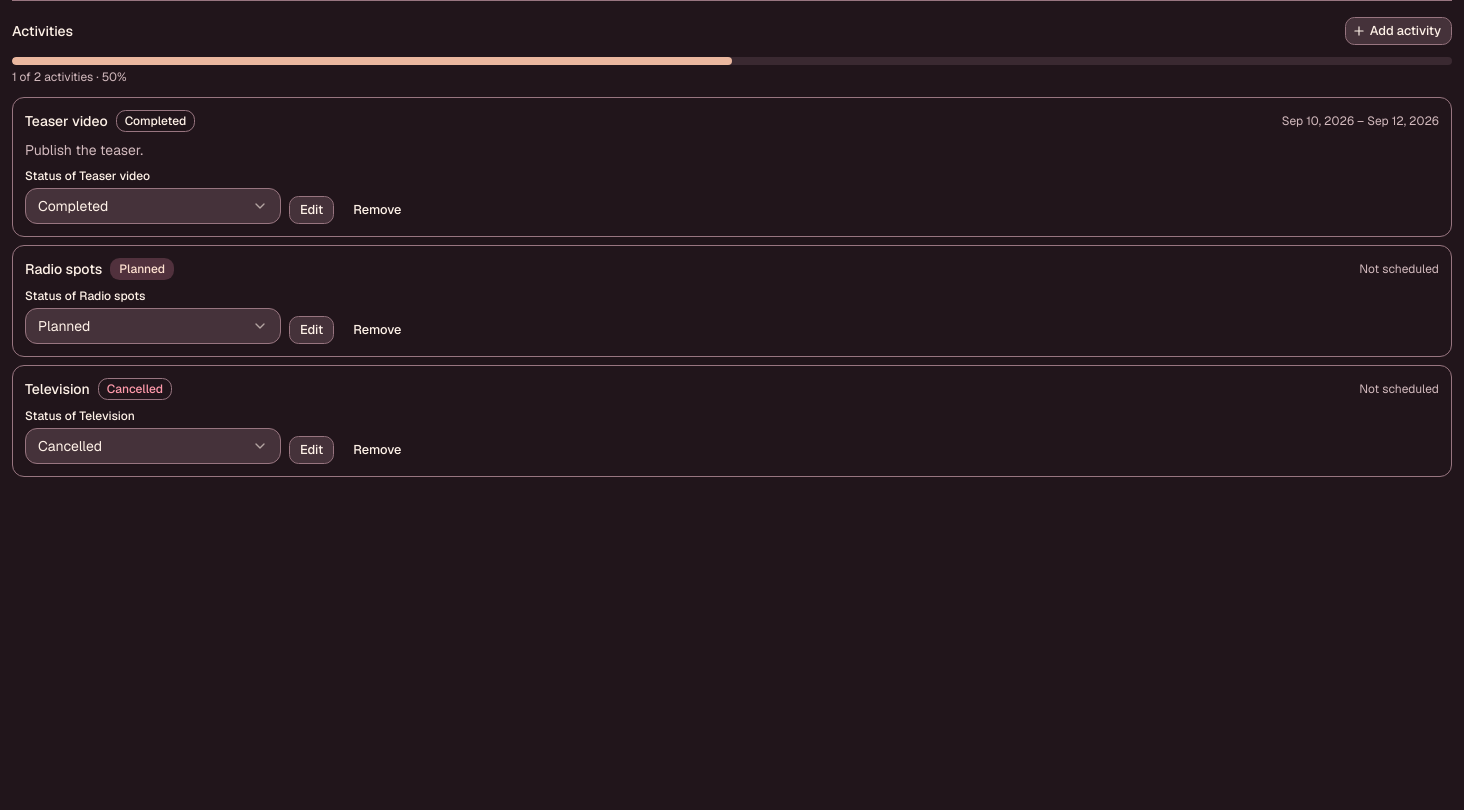
Test: CampaignActivities › editing › opens a form filled with the activity and saves the changes
Expected: the text "Teaser video" is shown, [25, 111, 108, 131]
Click the button with aria-label "Edit Radio spots" at (312, 330), box [289, 316, 334, 344]
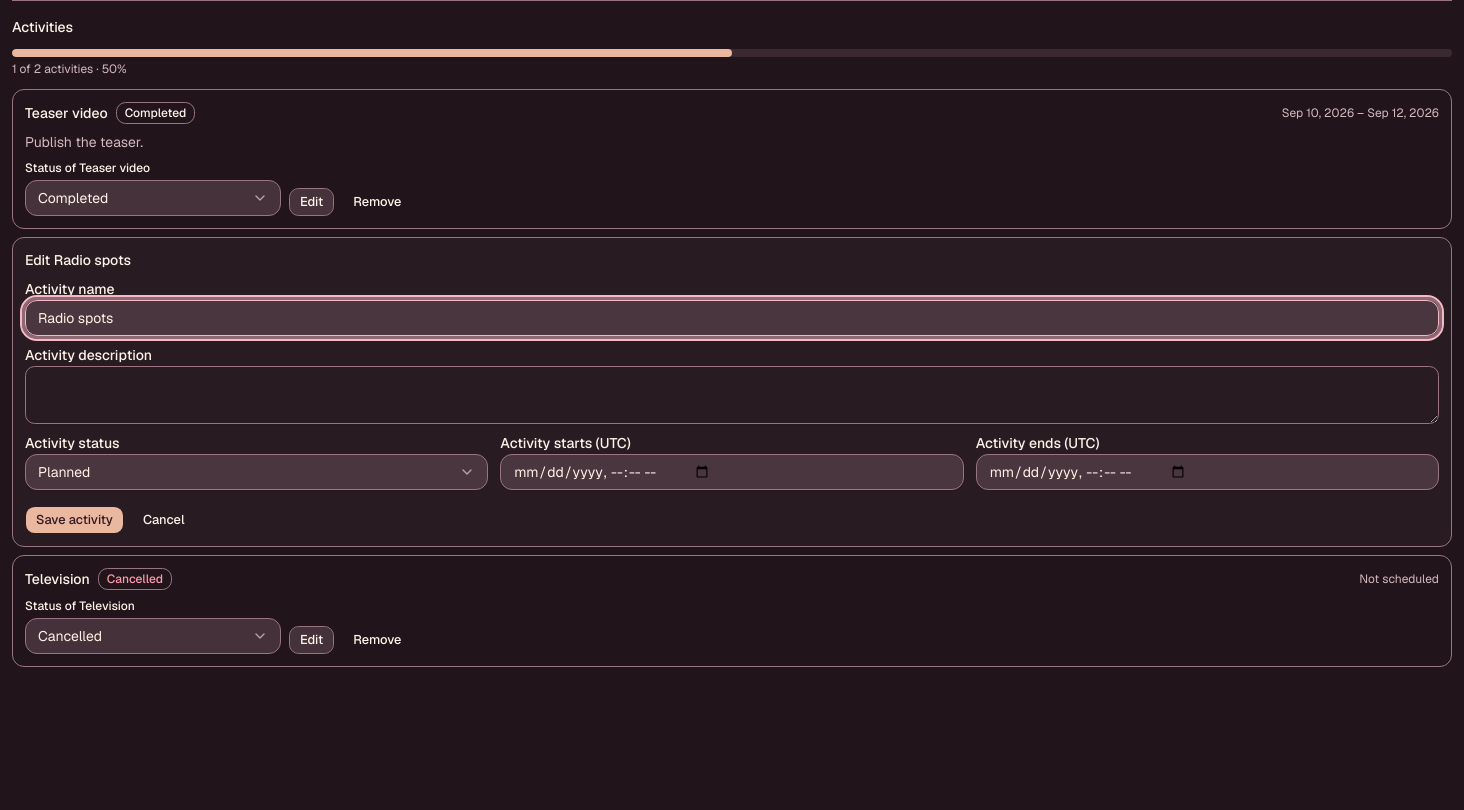
Now the field labelled "Activity name" holds "Radio spots"
Replace the text in the field labelled "Activity name" with "Radio and podcasts" at (732, 318), box [25, 300, 1439, 336]
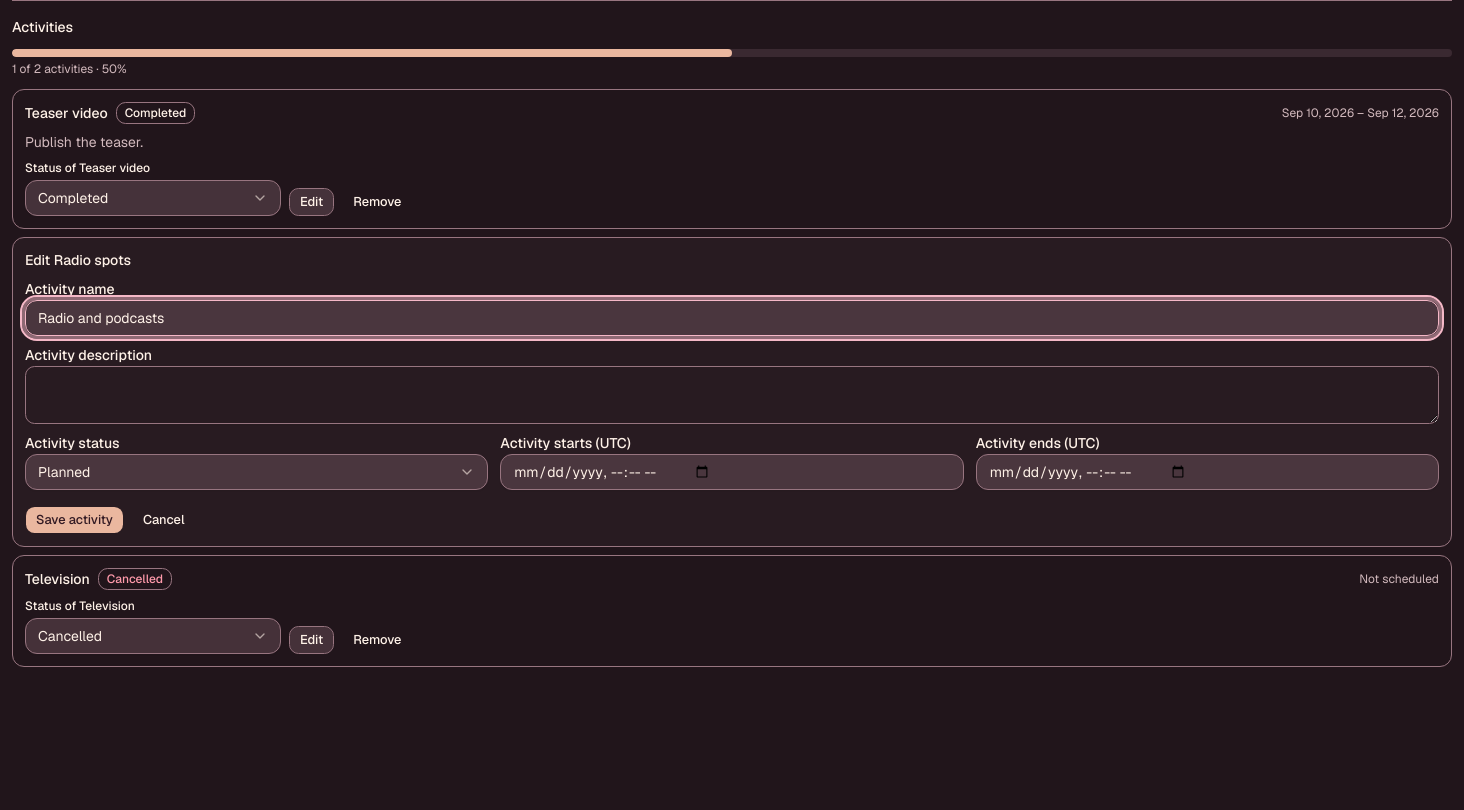
Click the button "Save activity" at (74, 520), box [25, 506, 124, 534]
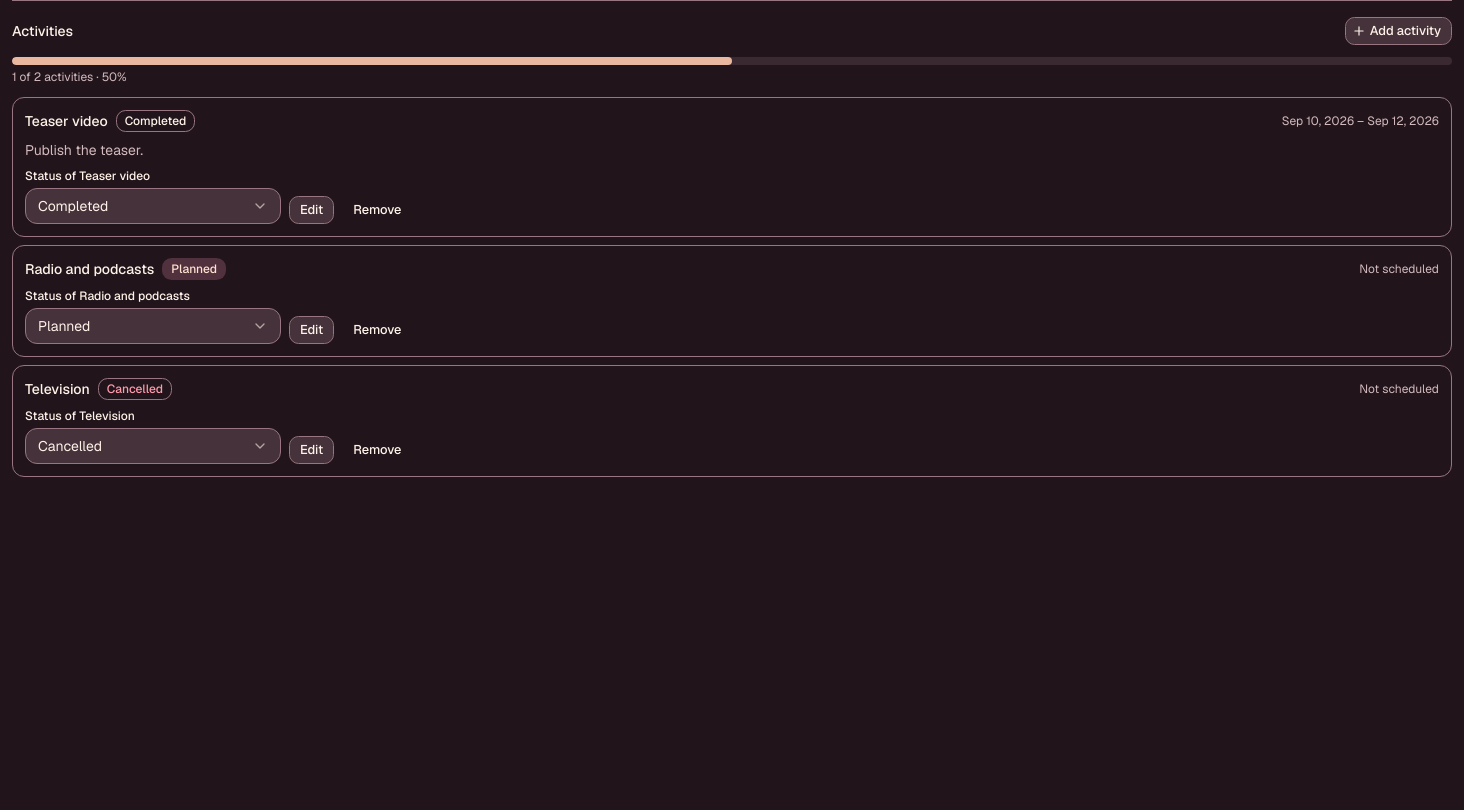
Now the text "Radio and podcasts" is shown, box [25, 259, 154, 279]
Now the text "Radio spots" is gone
